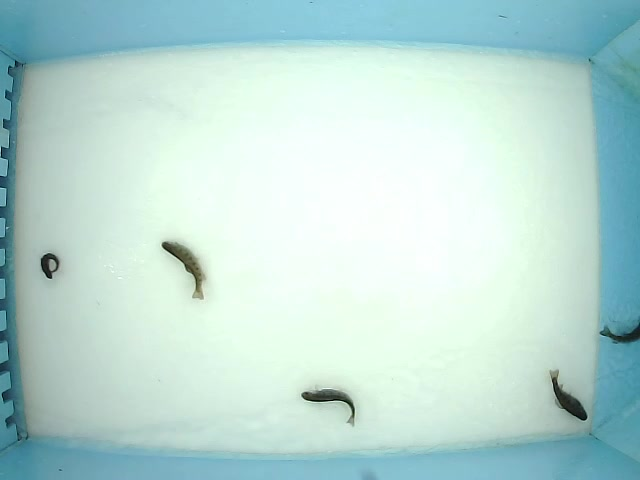fish: (161, 239, 206, 301), (301, 385, 356, 427), (548, 368, 588, 422), (40, 252, 61, 281)
